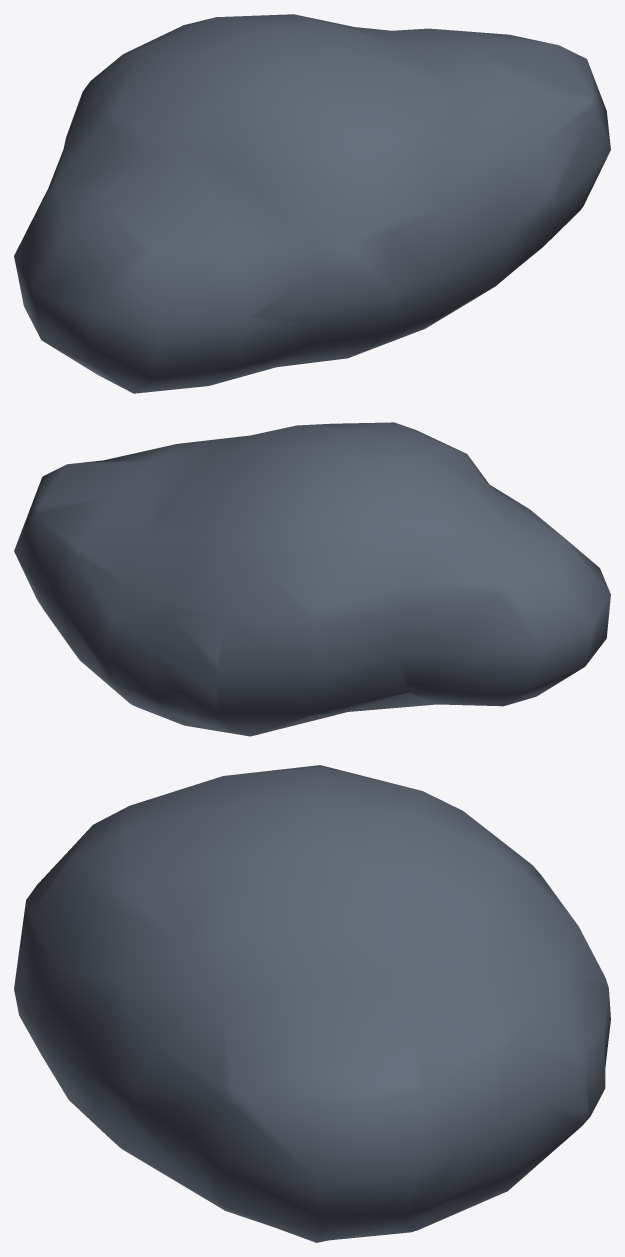
Rendered from RocaGrande.fbx.
3 renders of one model, top to bottom at view 1: azimuth 30°, elevation 25°; view 2: azimuth 150°, elevation 25°; view 3: azimuth 270°, elevation 25°, orthographic. The views are drawn at different scales.
Visible parts, largest first — view 1: RocaGrande_Piedra; view 2: RocaGrande_Piedra; view 3: RocaGrande_Piedra.
Part boxes in pixels (x1,y1,x2,y2): RocaGrande_Piedra: (14, 14, 610, 393); RocaGrande_Piedra: (14, 422, 610, 736); RocaGrande_Piedra: (14, 765, 610, 1242).
Bounding box in the file's own units: 8.41 × 3.77 × 6.06.
